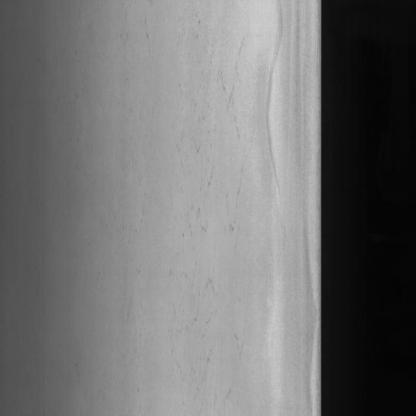silk_spot: (171, 30, 250, 406)
